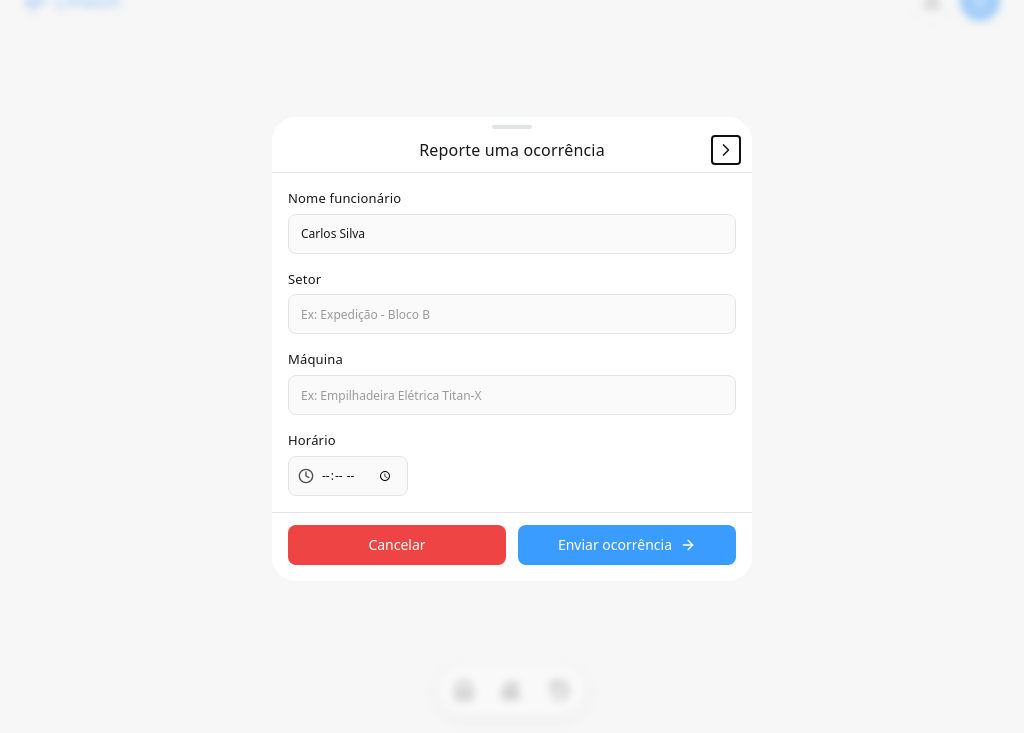
Test case: Incident route › Cancelar goes back without a toast
This screenshot has width=1024, height=733.
Expected: the dialog "Reporte uma ocorrência" is shown, [272,117,752,581]
Click the button "Cancelar" at (397, 545), box [288,525,506,565]
(page scrolled)
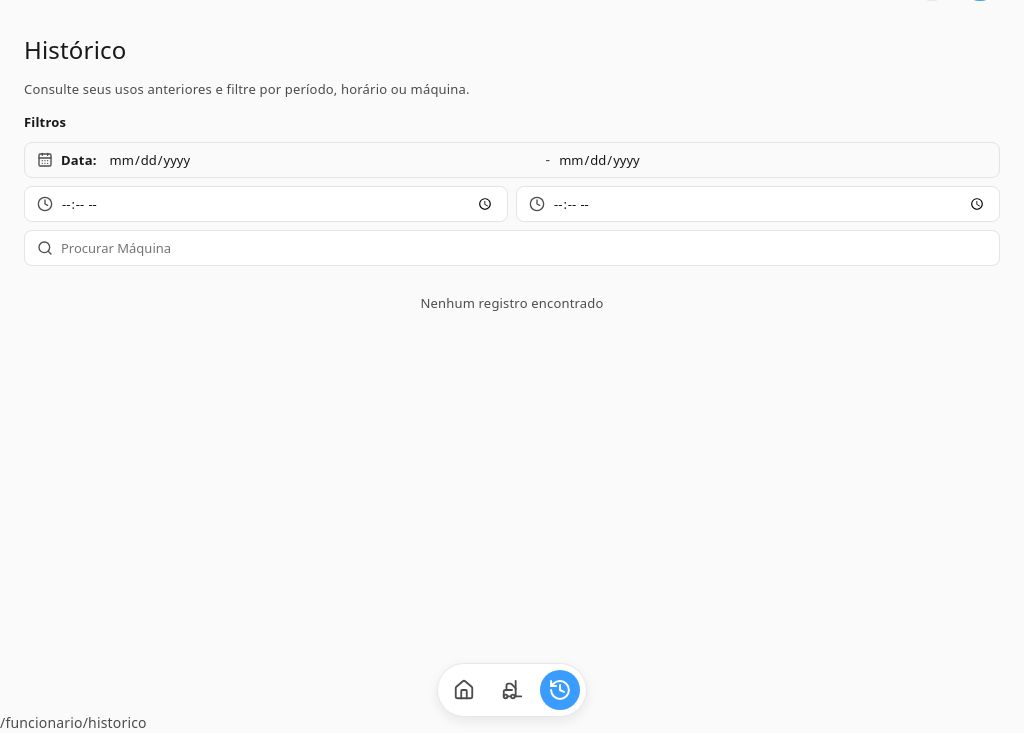
Result: the text with test id "path" reads "/funcionario/historico" at [0,713,147,732]
